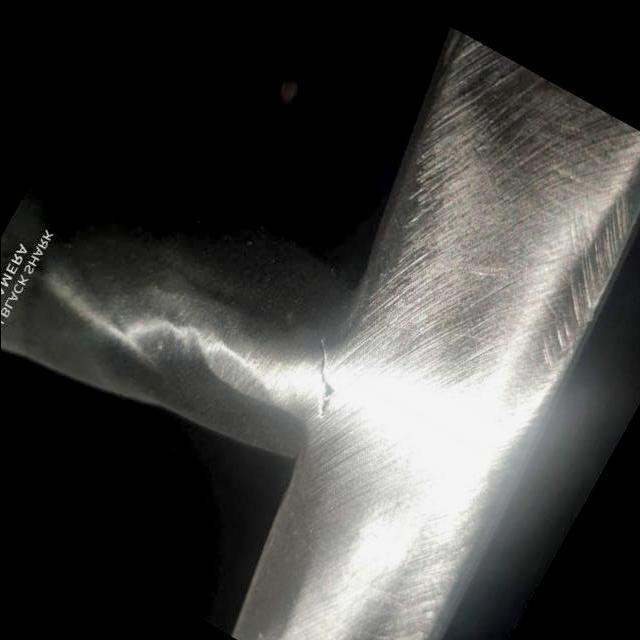defect: (314, 336, 337, 424)
